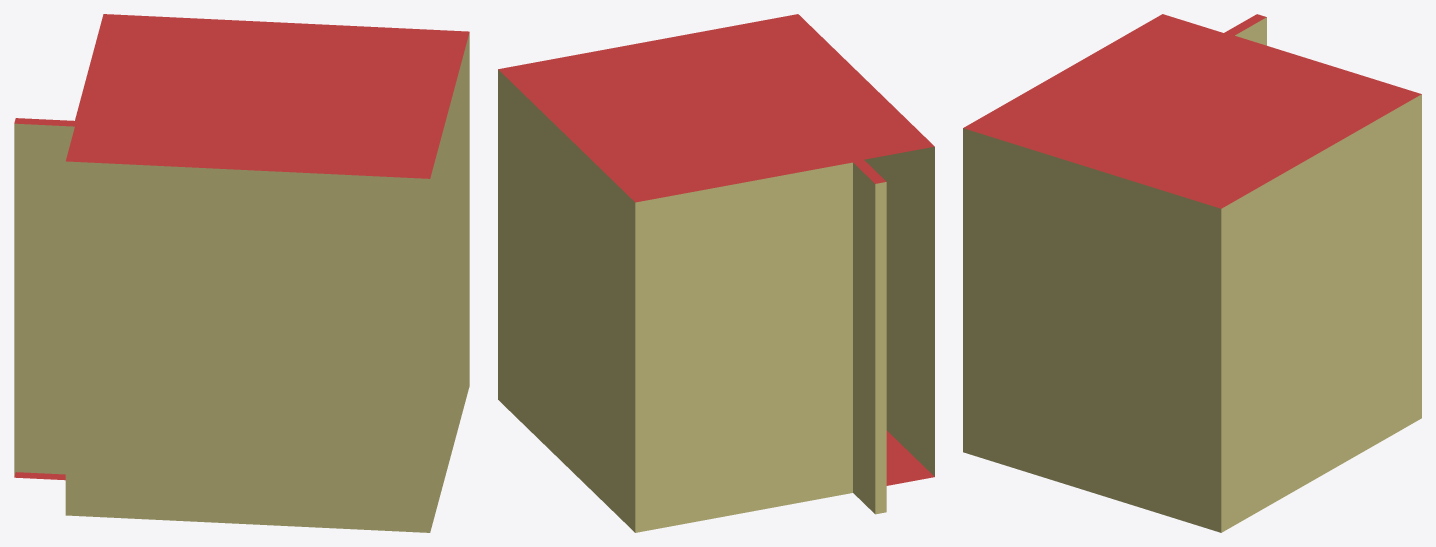
3 views of the same model, side by side, from view 1: azimuth 30°, elevation 25°; view 2: azimuth 150°, elevation 25°; view 3: azimuth 270°, elevation 25° (orthographic). The views are drawn at different scales.
Size of the model in its own units: 9.38 by 9.34 by 7.28.
